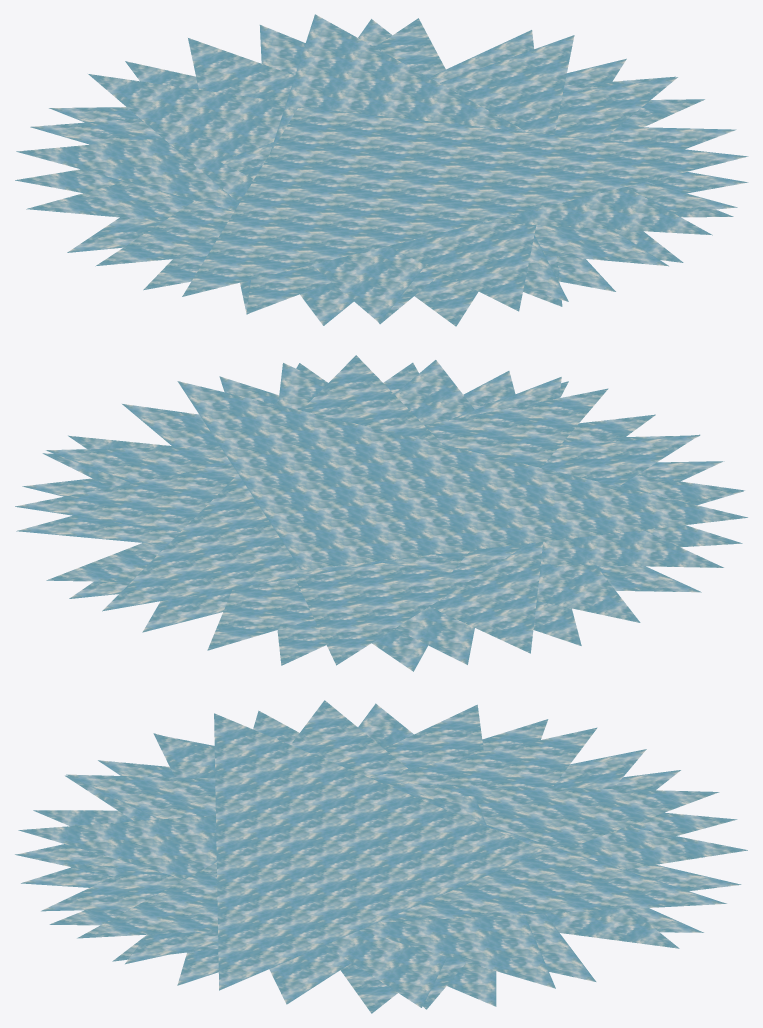
Rendered from Pass2New.obj.
3 views of the same model, one above another, from view 1: azimuth 30°, elevation 25°; view 2: azimuth 150°, elevation 25°; view 3: azimuth 270°, elevation 25° (orthographic).
Bounding box in the file's own units: 31652 × 391 × 31687.
1 material, 1 textured.
